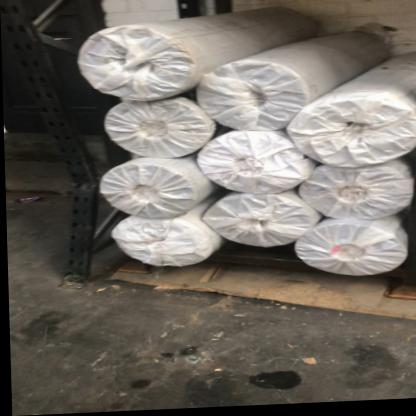vertical_damage: (39, 128, 113, 227)
